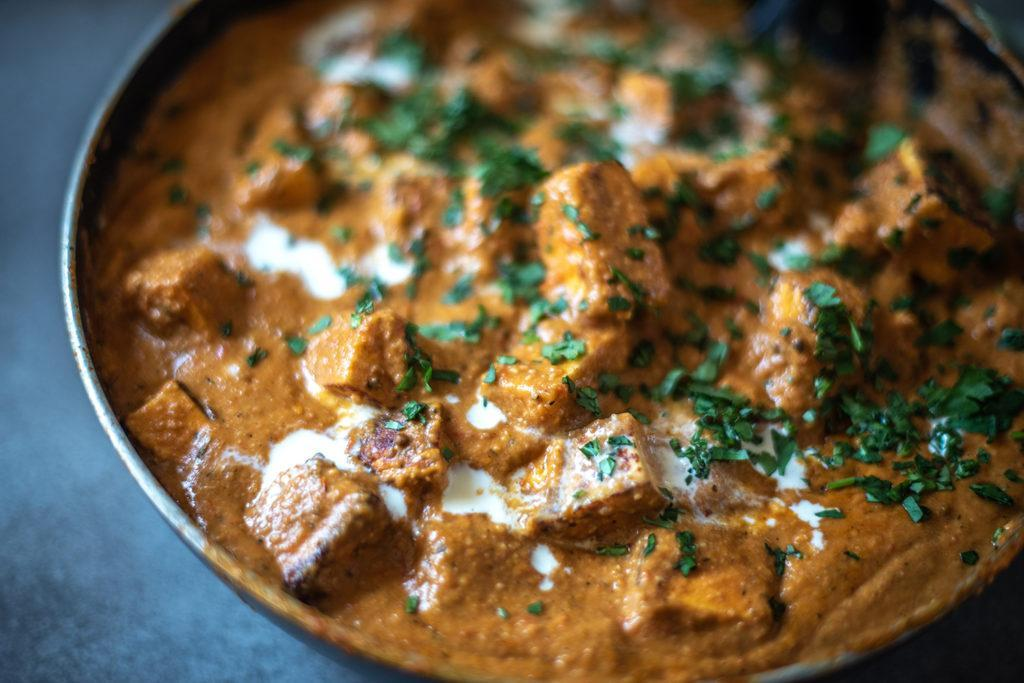paneer: (261, 69, 867, 518)
